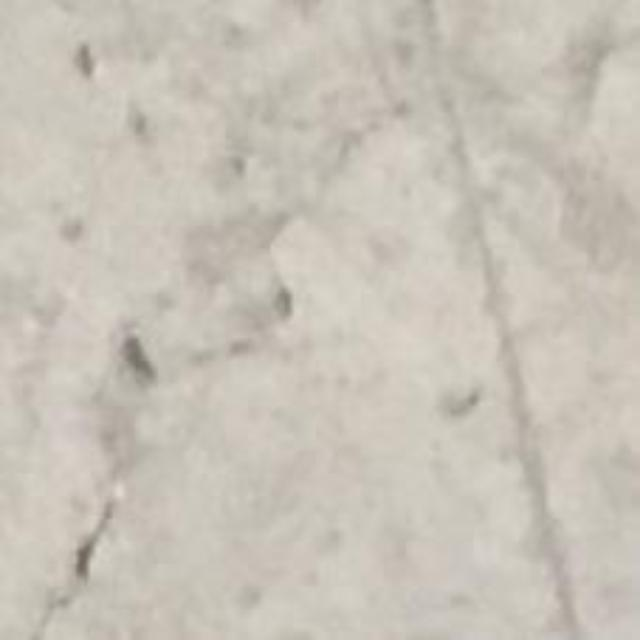crack: (426, 0, 586, 639)
